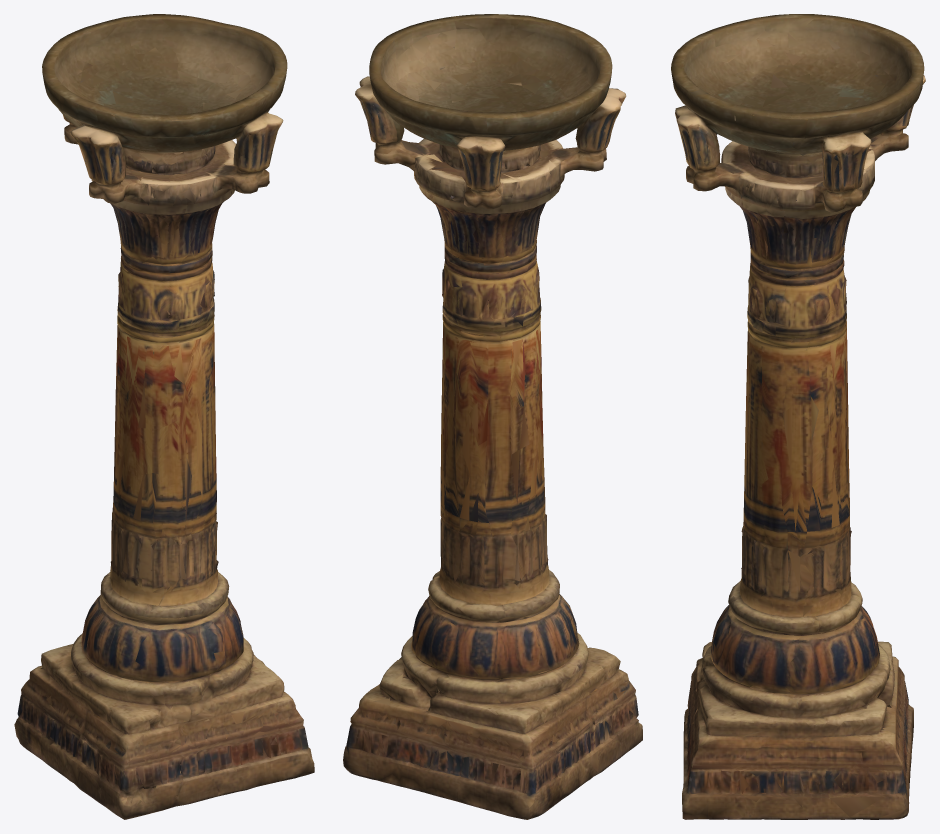
File: fire_pillar_tall.glb
3 views of the same model, side by side, from view 1: azimuth 30°, elevation 25°; view 2: azimuth 150°, elevation 25°; view 3: azimuth 270°, elevation 25° (orthographic). The views are drawn at different scales.
Parts seen in each view (by area): view 1: prop; view 2: prop; view 3: prop.
Boxes of the visible parts, x1,y1,x2,y2 form: prop: (14,14,314,819); prop: (343,14,642,819); prop: (671,14,925,819).
Size of the model in its own units: 1.01 by 3 by 0.9757.
1 material, 1 textured.
